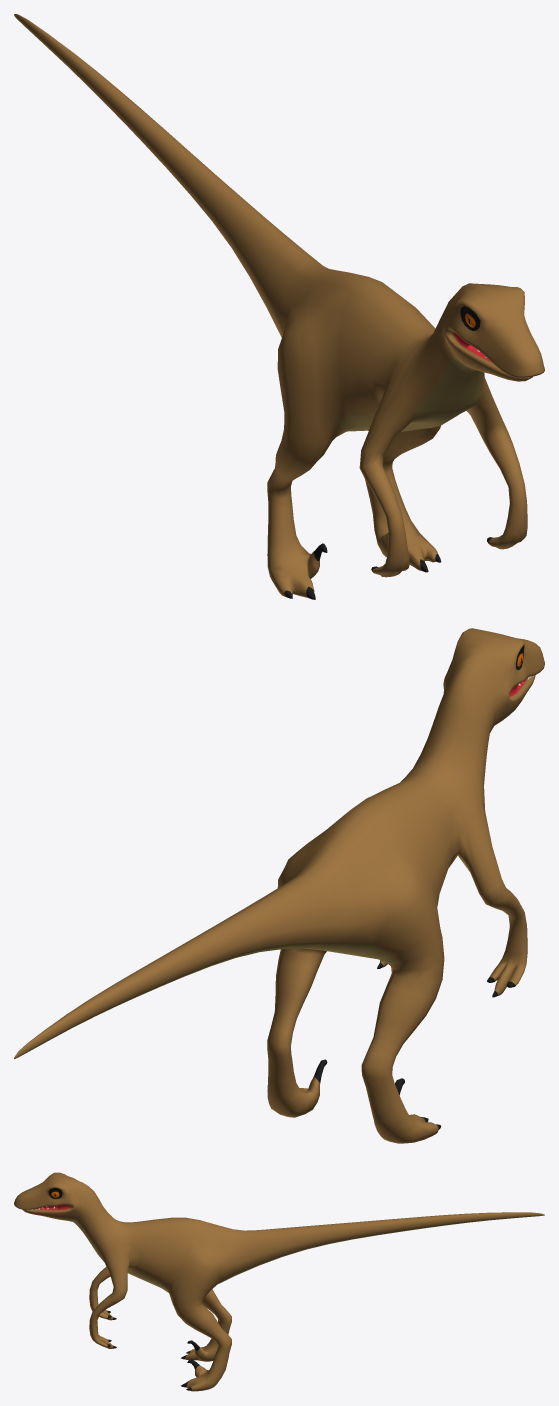
The model's file is Velociraptor_Rig.fbx.
3 renders of one model, top to bottom at view 1: azimuth 30°, elevation 25°; view 2: azimuth 150°, elevation 25°; view 3: azimuth 270°, elevation 25°, orthographic. The views are drawn at different scales.
Parts seen in each view (by area): view 1: velociraptor; view 2: velociraptor; view 3: velociraptor.
Boxes of the visible parts, left/top/right/bottom form: velociraptor: left=14, top=14, right=544, bottom=599; velociraptor: left=14, top=628, right=544, bottom=1143; velociraptor: left=14, top=1172, right=544, bottom=1391.
Bounding box in the file's own units: 69.79 × 164 × 402.
